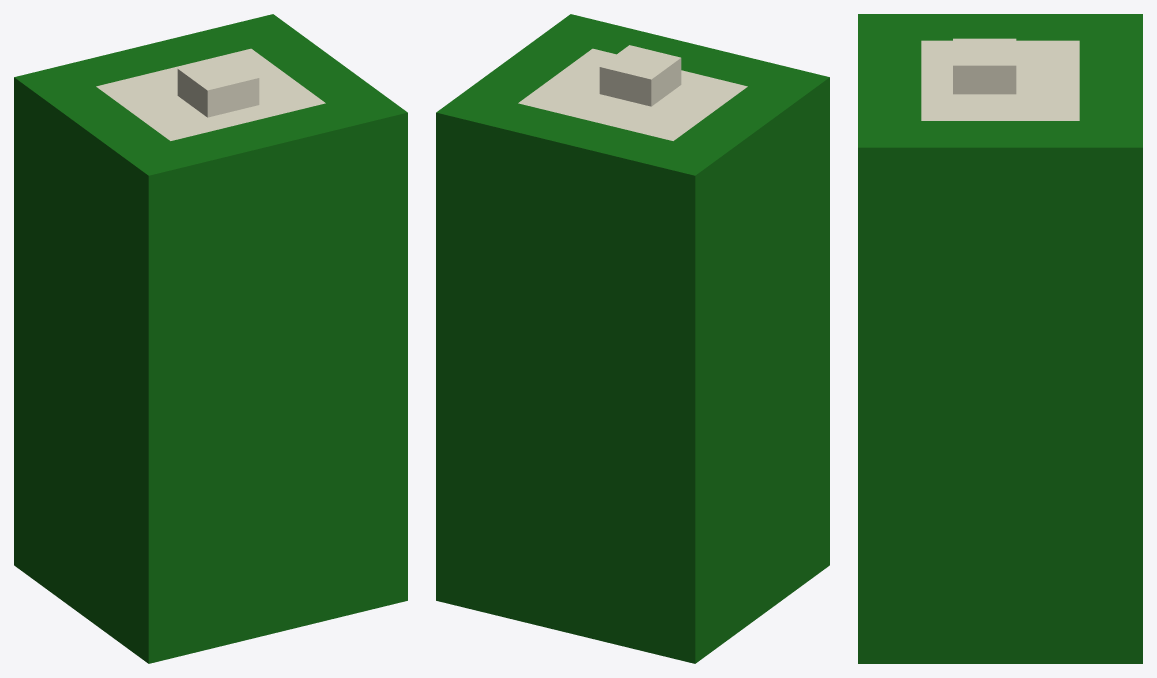
Rendered from character.vox-3-player-2-body.obj.
3 renders of one model, left to right at view 1: azimuth 30°, elevation 25°; view 2: azimuth 150°, elevation 25°; view 3: azimuth 270°, elevation 25°, orthographic. The views are drawn at different scales.
Visible parts, largest first — view 1: player-2-body; view 2: player-2-body; view 3: player-2-body.
Boxes of the visible parts, left/top/right/bottom form: player-2-body: left=14, top=14, right=407, bottom=663; player-2-body: left=436, top=14, right=829, bottom=663; player-2-body: left=858, top=14, right=1142, bottom=663.
Size of the model in its own units: 1 by 1.9 by 0.9.
Materials: 1 (1 with a texture image).
